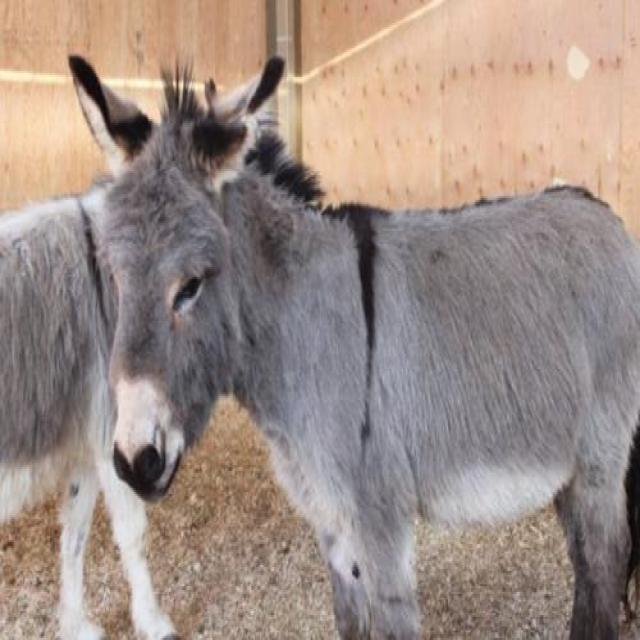Donkey: (70, 55, 640, 640), (1, 178, 182, 640)
